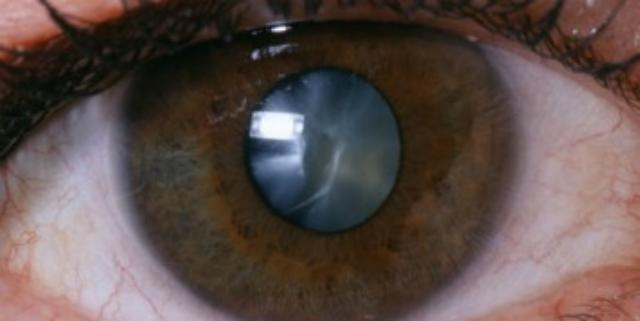eye: (130, 22, 515, 321)
